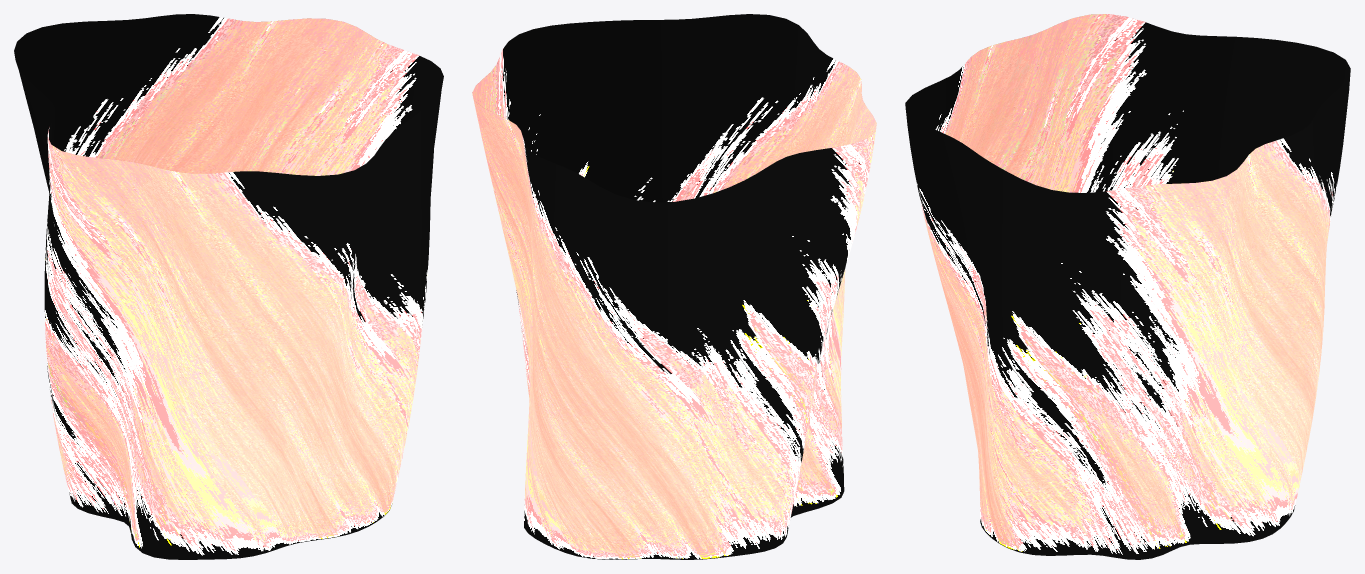
File: clear_devil_mid_3.glb
The picture shows the model from 3 angles, left to right: view 1: azimuth 30°, elevation 25°; view 2: azimuth 150°, elevation 25°; view 3: azimuth 270°, elevation 25°; orthographic projection.
Visible parts, largest first — view 1: devil_mid_3; view 2: devil_mid_3; view 3: devil_mid_3.
Boxes of the visible parts, x1,y1,x2,y2 form: devil_mid_3: (14, 14, 443, 559); devil_mid_3: (472, 14, 876, 559); devil_mid_3: (905, 14, 1350, 559).
Size of the model in its own units: 12.81 by 13.2 by 13.48.
Materials: 1 (1 with a texture image).
